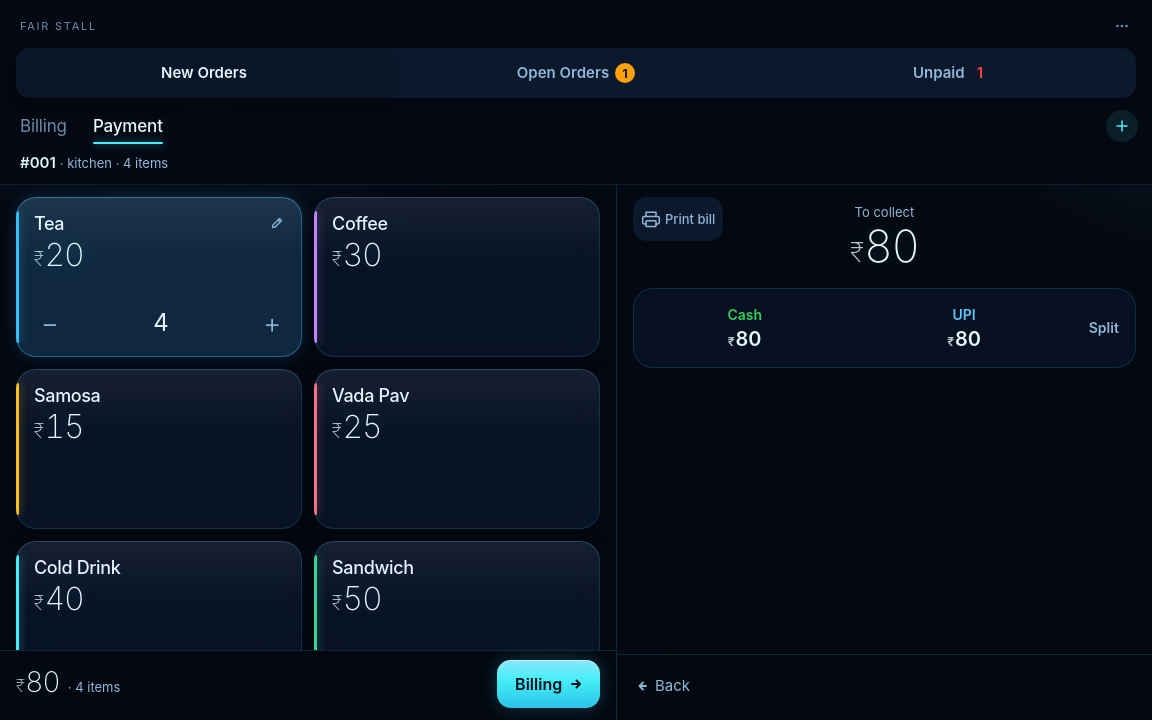
pay3 split lock › a locked side above the new amount is lowered to fit, with a calm toast
Click the button "Split" at [1104, 328], box [1076,292,1132,364]
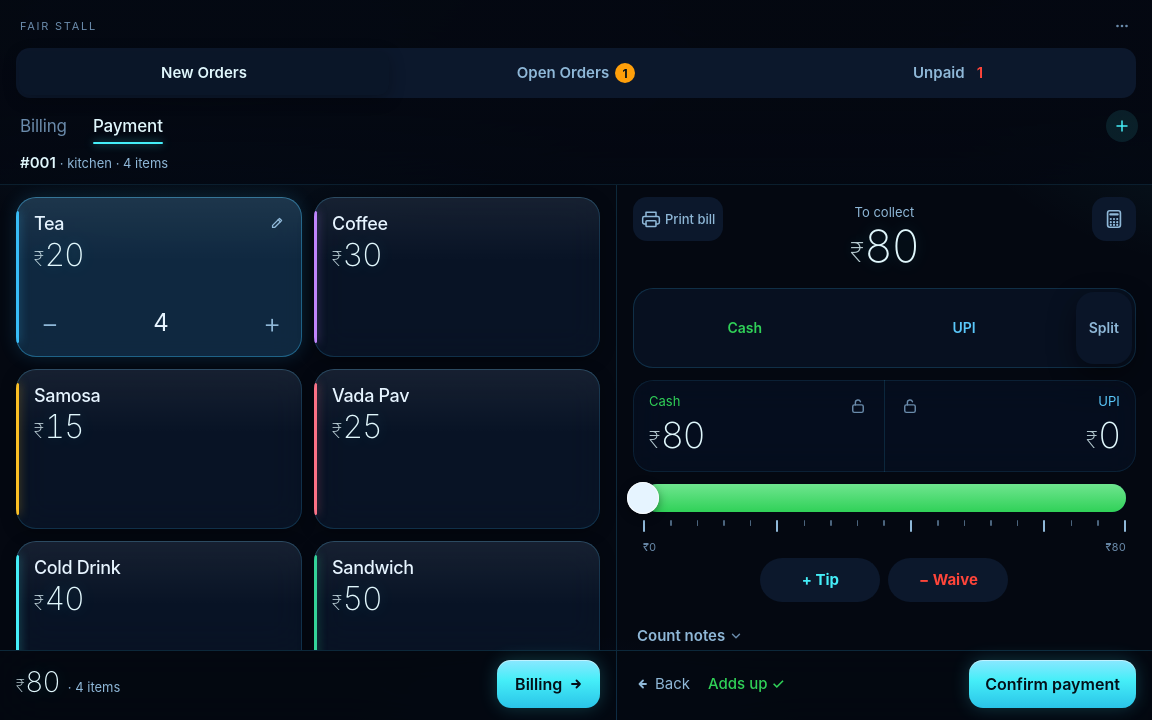
Click the button named "Lock Cash" at [859, 406], box [837,384,881,428]
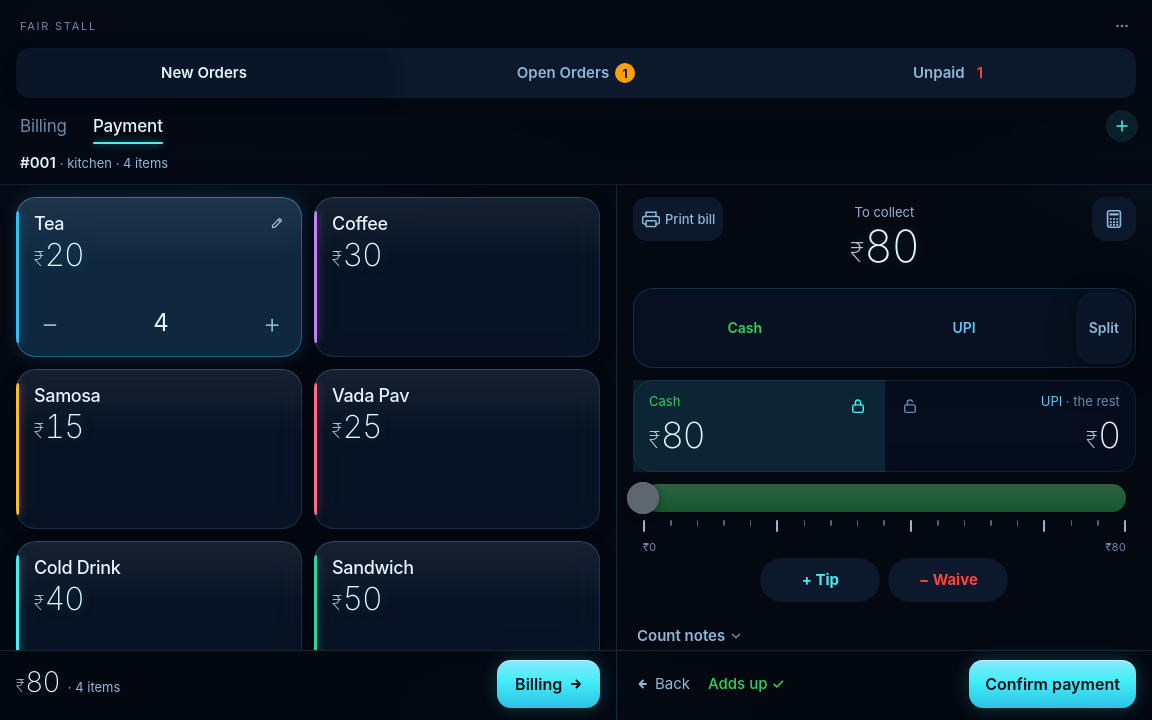
Click the button "− Waive" at [949, 580], box [889,558,1009,602]
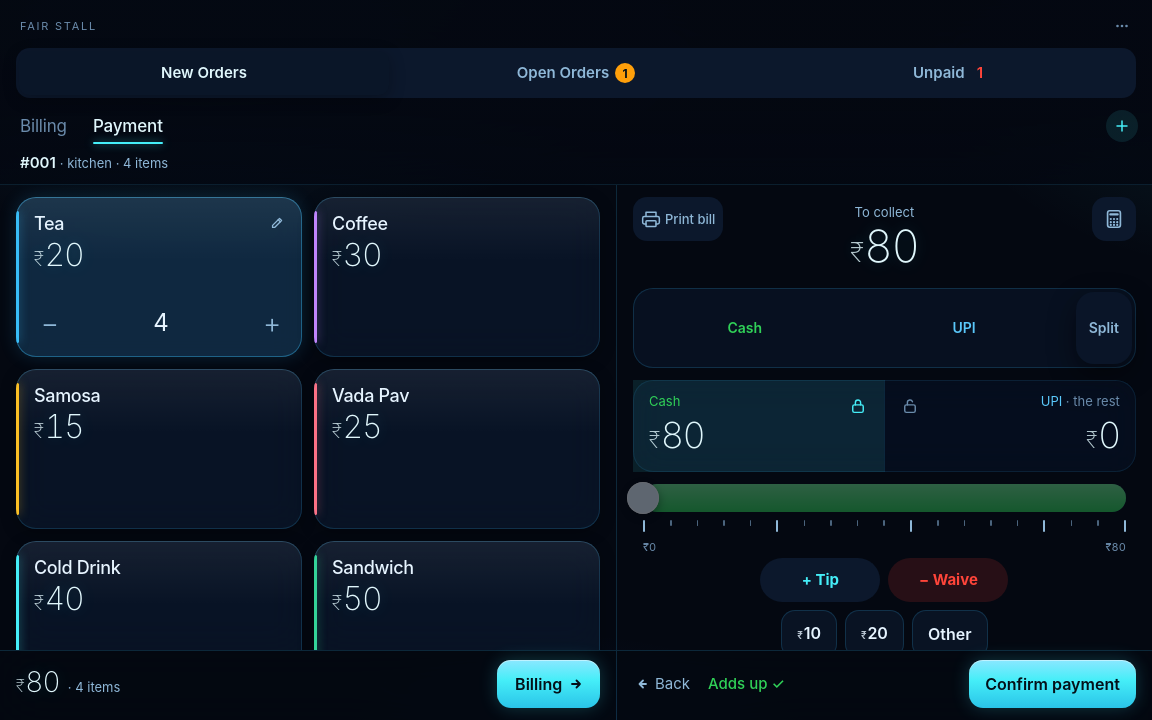
Click the button "₹20" at [875, 634], box [845,610,904,658]
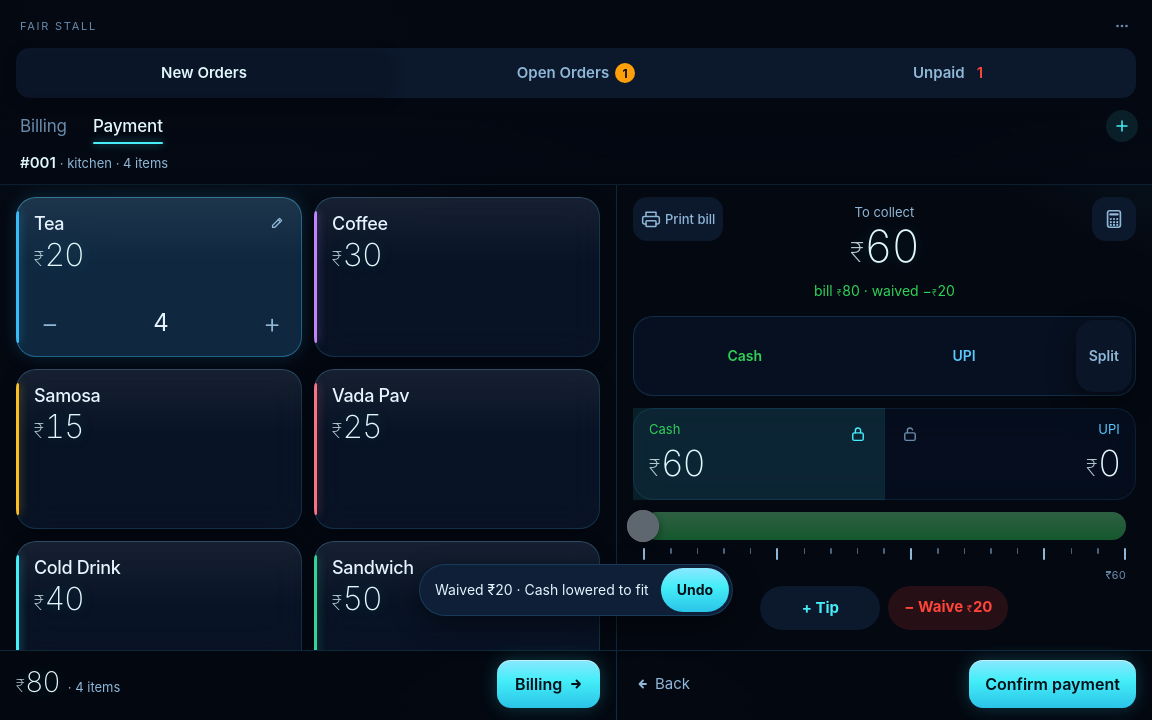
Check: the message shows "Cash lowered to fit", box [435,581,649,598]
